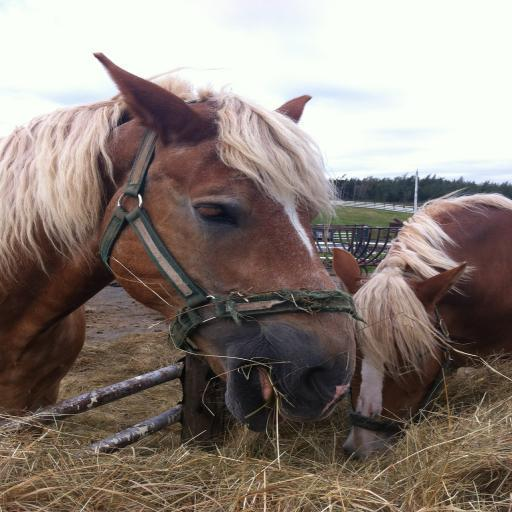horse: (0, 54, 360, 435), (330, 186, 512, 462)
